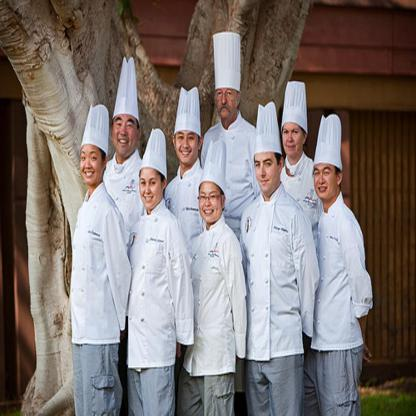face: (255, 151, 280, 195), (114, 113, 139, 156), (200, 182, 223, 225), (140, 168, 163, 210), (81, 143, 104, 184), (176, 127, 199, 166), (314, 162, 337, 200), (216, 84, 239, 119), (283, 121, 304, 158)
